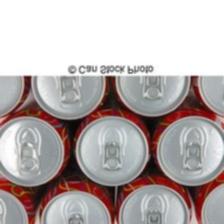can: (74, 105, 152, 186), (150, 107, 223, 188), (0, 108, 71, 187), (29, 69, 109, 120), (34, 176, 116, 224), (115, 175, 194, 223), (109, 75, 193, 118), (0, 178, 42, 224), (191, 73, 224, 124), (193, 169, 223, 223), (0, 75, 31, 119)
